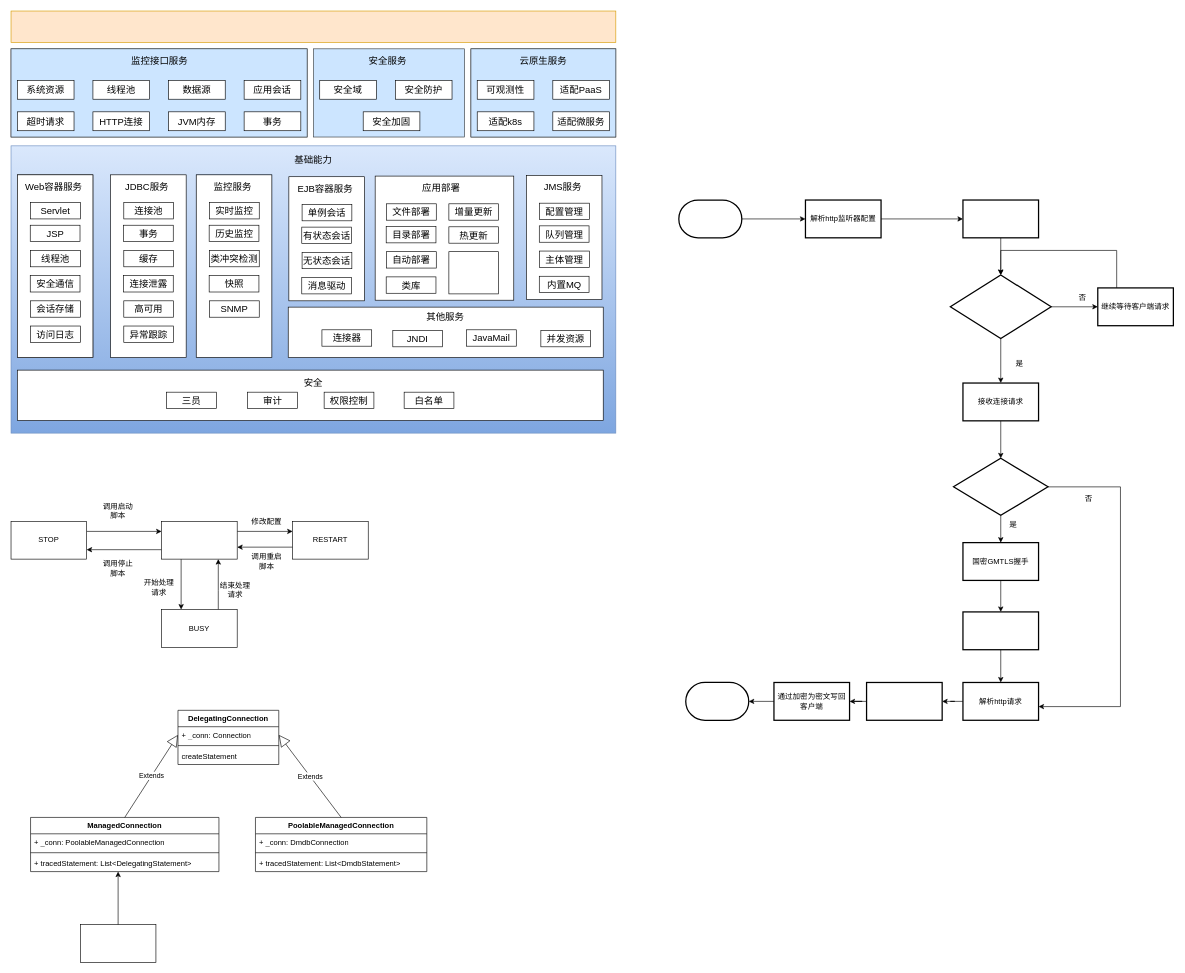
Image size: 1185x973. Some labels were removed from this diagram. The centre of each missing label's shape, as x and y in pixels:
"API/JMX/CLI" belongs at [313,26].
"RUNNING" belongs at [199,540].
"WEB/EJB /JCA/EAR应用类型" belongs at [473,272].
"业务始终用这部分对象" belongs at [118,943].
"开始" belongs at [710,218].
"执行业务逻辑" belongs at [904,701].
"是否开启国密？" belongs at [1000,486].
"是否有来自客户端请求？" belongs at [1000,306].
"绑定socket套接字" belongs at [1000,218].
"结束" belongs at [717,701].
"解密密文" belongs at [1000,630].
